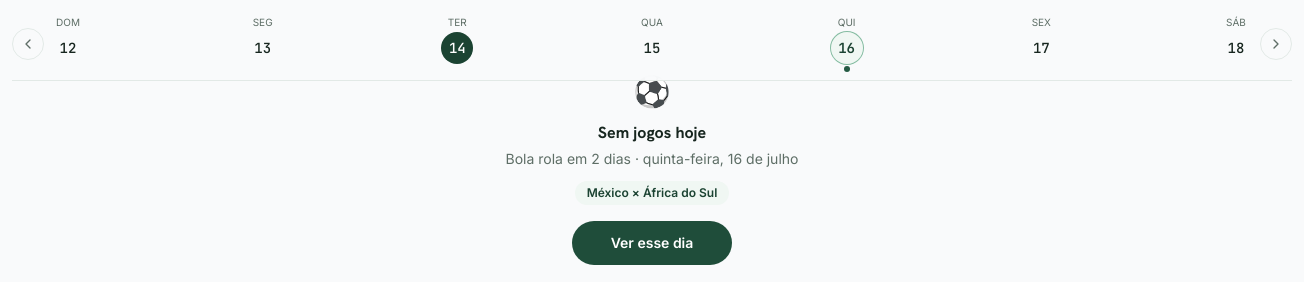
Scenario: Agenda da Copa (integração com Supabase mockado) › 'Ver esse dia' abre a agenda do próximo dia com jogos
Click the button "Ver esse dia": click(652, 243) [572,221,732,265]
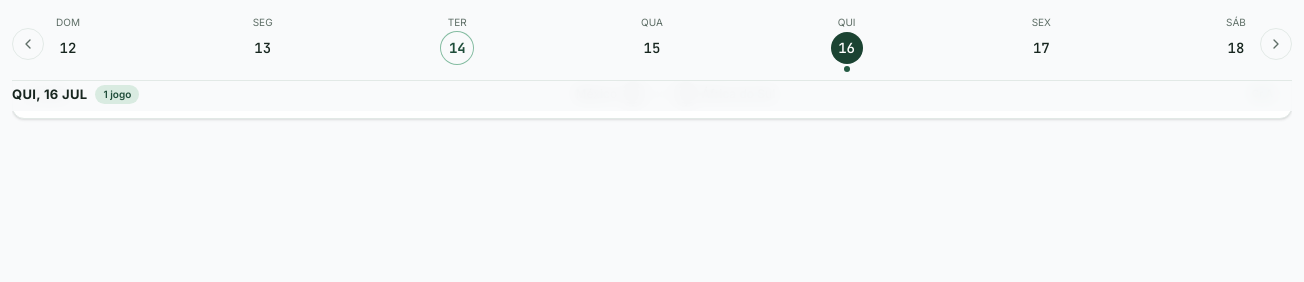
Expected: the text "Sem jogos hoje" is gone
